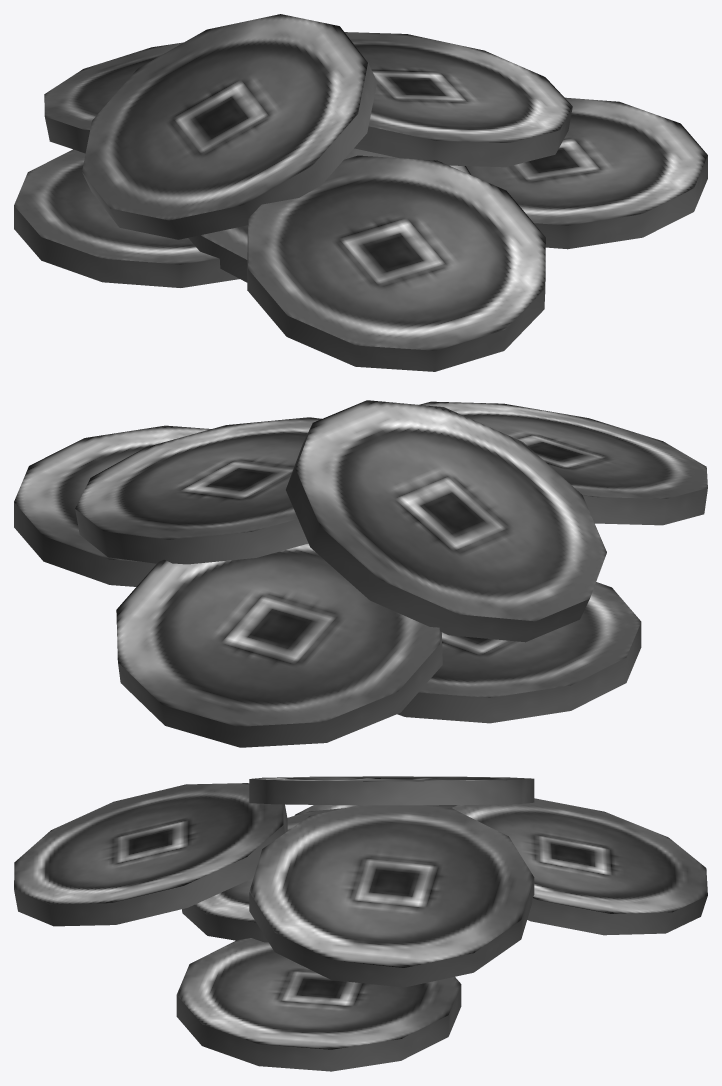
File: Npc_051.FBX
3 views of the same model, one above another, from view 1: azimuth 30°, elevation 25°; view 2: azimuth 150°, elevation 25°; view 3: azimuth 270°, elevation 25° (orthographic). The views are drawn at different scales.
Visible parts, largest first — view 1: M_a1; view 2: M_a1; view 3: M_a1.
Part boxes in pixels (<box>): M_a1: <box>14,14,707,371</box>; M_a1: <box>14,400,707,747</box>; M_a1: <box>14,776,707,1071</box>.
Bounding box in the file's own units: 10.48 × 2.79 × 11.39.
